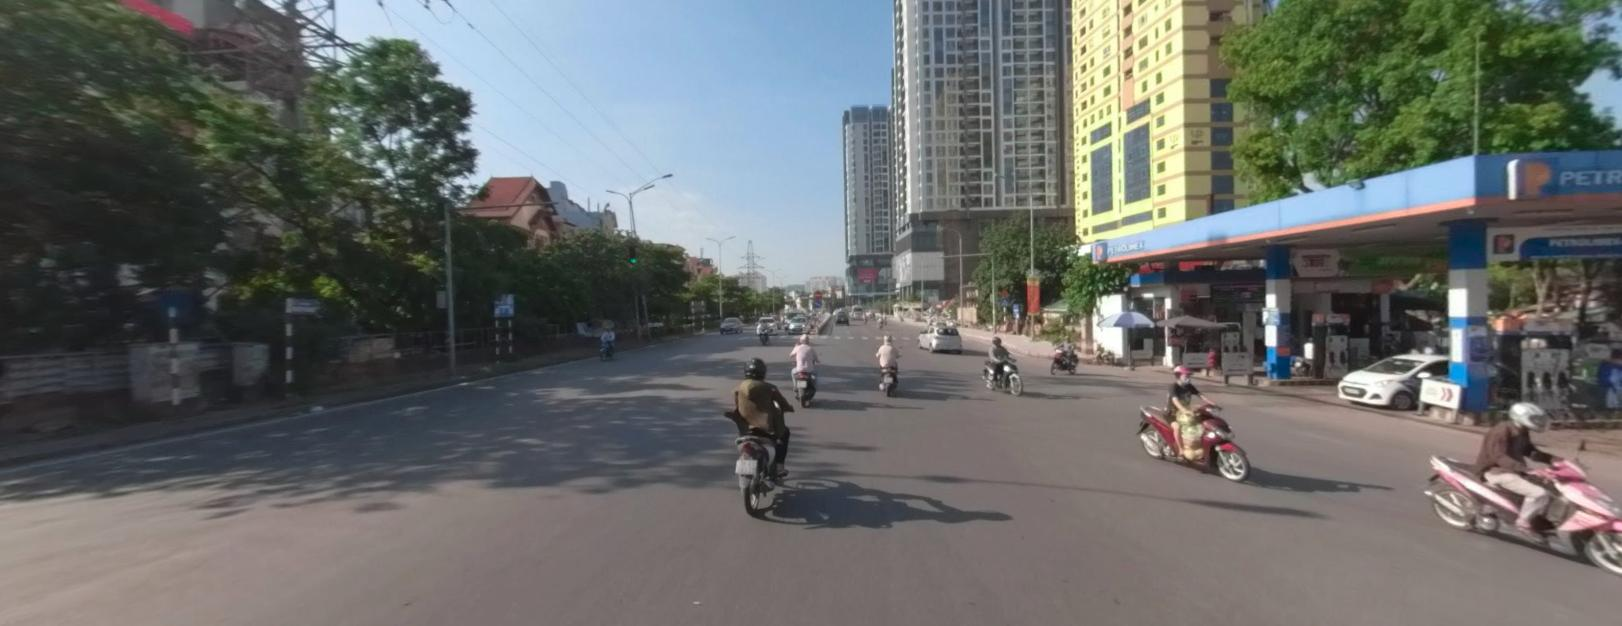Cam nguoc chieu: (813, 289, 821, 297), (814, 288, 822, 296)
Hieu lenh: (813, 298, 821, 306), (813, 297, 820, 305)
